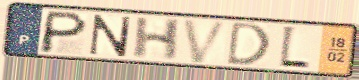D: (225, 20, 273, 67)
H: (130, 16, 185, 62)
L: (277, 24, 312, 72)
N: (86, 13, 134, 58)
P: (36, 9, 90, 55)
V: (180, 17, 231, 65)
